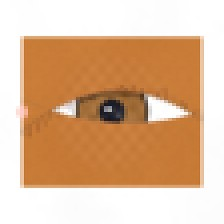pinguecula_lesion: (147, 104, 183, 132)
